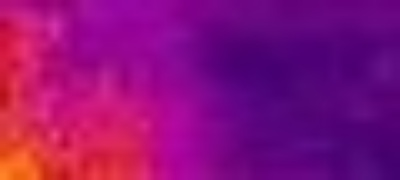Shadow: (143, 1, 400, 179), (1, 1, 144, 145)
